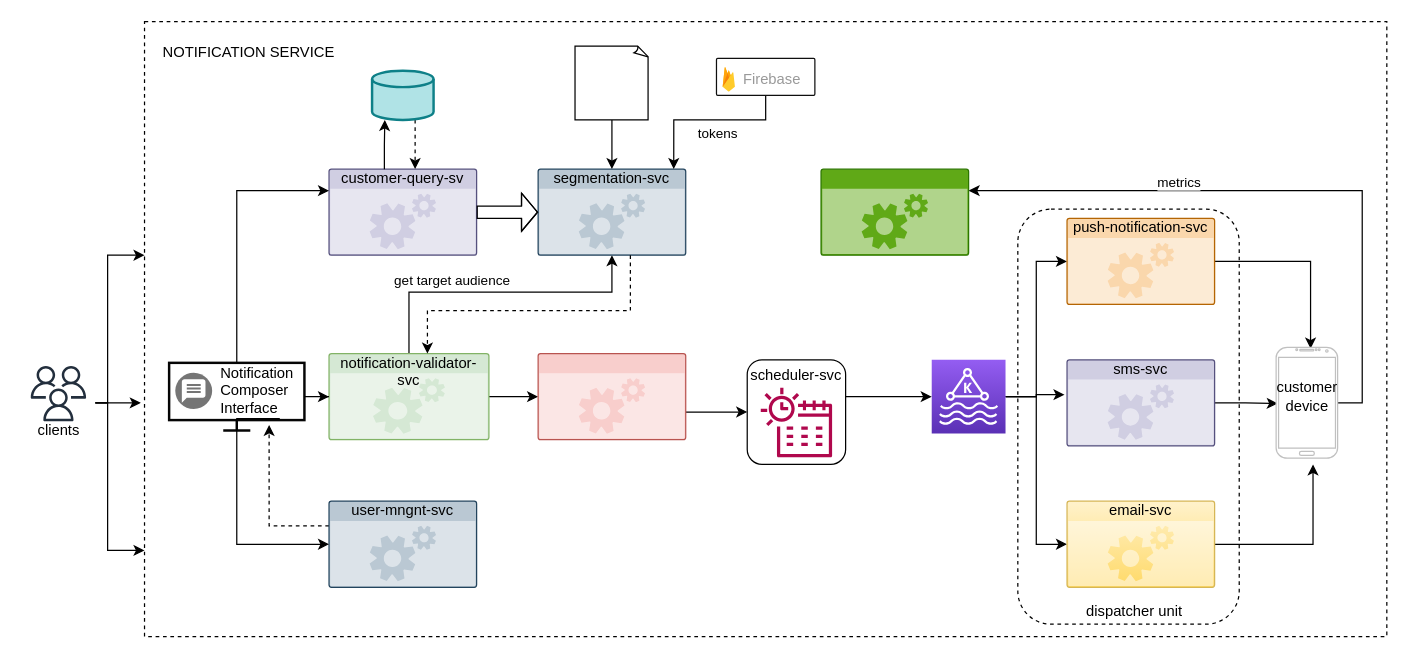
The diagram is 1408 pixels wide and 658 high, and some of its shapes have lost their labels. The shapes that lost their labels are listed below. From the top down, each one's centre as x and y in pixels, then its label:
At (x=402, y=95): "BI".
At (x=611, y=82): "customer data".
At (x=894, y=211): "metrics-sv".
At (x=611, y=396): "rate-limiter-svc".
